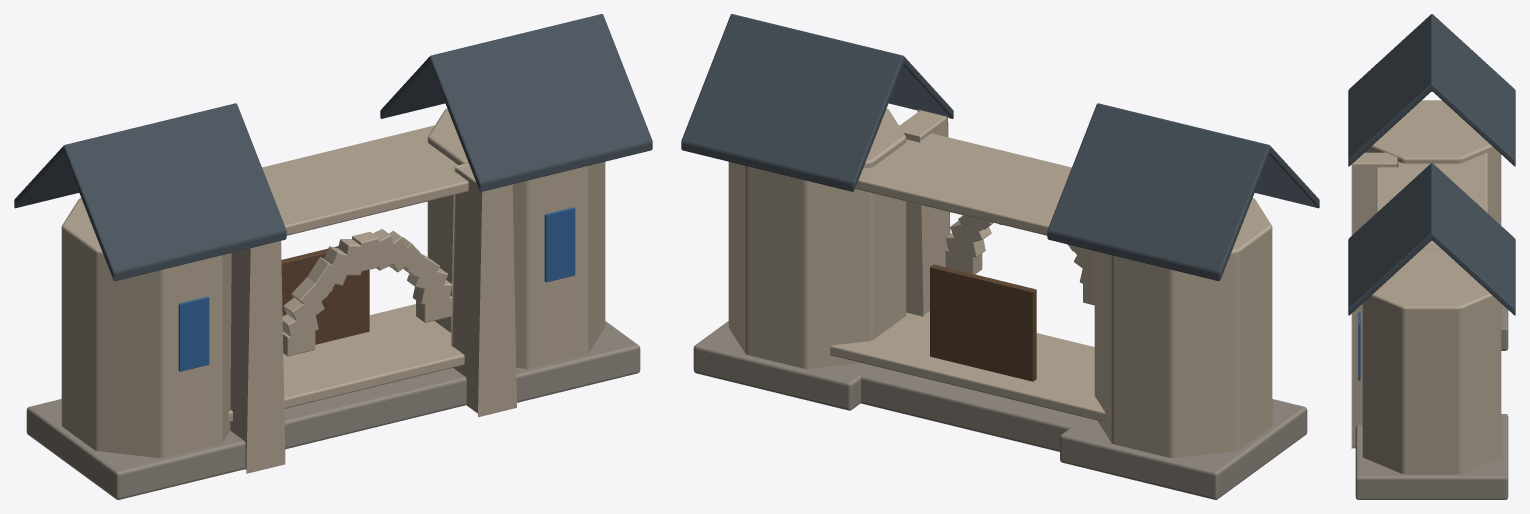
Rendered from Valoria_MainGate_v1.glb.
The picture shows the model from 3 angles, left to right: view 1: azimuth 30°, elevation 25°; view 2: azimuth 150°, elevation 25°; view 3: azimuth 270°, elevation 25°; orthographic projection. The views are drawn at different scales.
Parts seen in each view (by area): view 1: gate octagonal tower, gate tower roof, gate tower roof.001, gate octagonal tower.001, stone buttress.001, gate crown, stone buttress, gate lower course, tower base, gate plinth, tower base.001, recessed gate (+6 smaller); view 2: gate octagonal tower, gate octagonal tower.001, gate tower roof, gate tower roof.001, gate crown, gate lower course, recessed gate, tower base, gate plinth, tower base.001, stone buttress.001; view 3: gate octagonal tower.001, gate tower roof, gate tower roof.001, gate octagonal tower, tower base.001, gate crown, stone buttress, stone buttress.001, tower base, tower banner.001.
Part boxes in pixels (x1,y1,x2,y2): gate octagonal tower: (61,198,231,458); gate tower roof: (14,103,286,281); gate tower roof.001: (380,14,652,191); gate octagonal tower.001: (427,108,605,368); stone buttress.001: (451,163,516,417); gate crown: (262,125,468,235); stone buttress: (230,241,285,473); gate lower course: (228,304,464,422); tower base: (26,399,245,499); gate plinth: (228,368,466,449); tower base.001: (516,321,640,402); recessed gate: (281,246,369,344); gate octagonal tower: (1094,198,1272,458); gate octagonal tower.001: (728,108,906,368); gate tower roof: (1047,103,1319,281); gate tower roof.001: (681,14,953,191); gate crown: (855,125,1071,235); gate lower course: (830,311,1105,422); recessed gate: (930,264,1036,381); tower base: (1060,399,1307,499); gate plinth: (833,365,1105,451); tower base.001: (693,321,871,410); stone buttress.001: (899,109,950,316); gate octagonal tower.001: (1362,249,1501,474); gate tower roof: (1348,14,1515,166); gate tower roof.001: (1348,163,1515,315); gate octagonal tower: (1365,100,1501,225); tower base.001: (1355,414,1508,499); gate crown: (1376,152,1487,249); stone buttress: (1351,152,1398,235); stone buttress.001: (1351,304,1362,448); tower base: (1501,304,1508,350); tower banner.001: (1358,312,1360,380).
Size of the model in its own units: 8.02 by 4.63 by 2.58.
